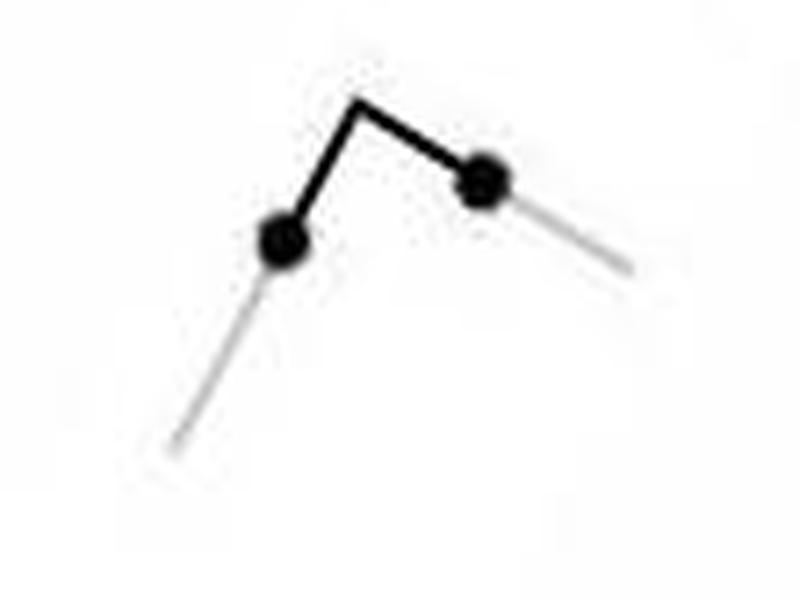butt_weld_90: (153, 72, 628, 430)
